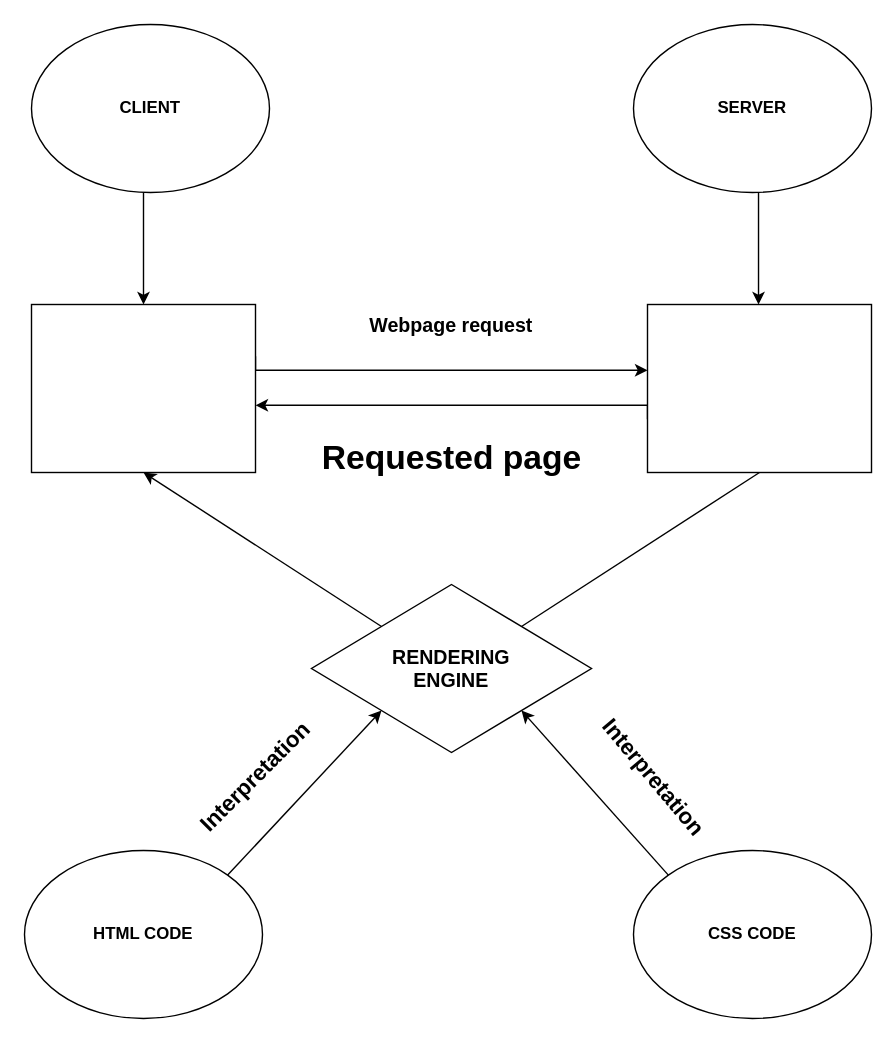
This 896x1043 diagram has some shape labels left out. Each missing label, with the centre of its shape:
"WEB BROWSER" belongs at (x=142, y=387).
"WEB SERVER" belongs at (x=759, y=387).
